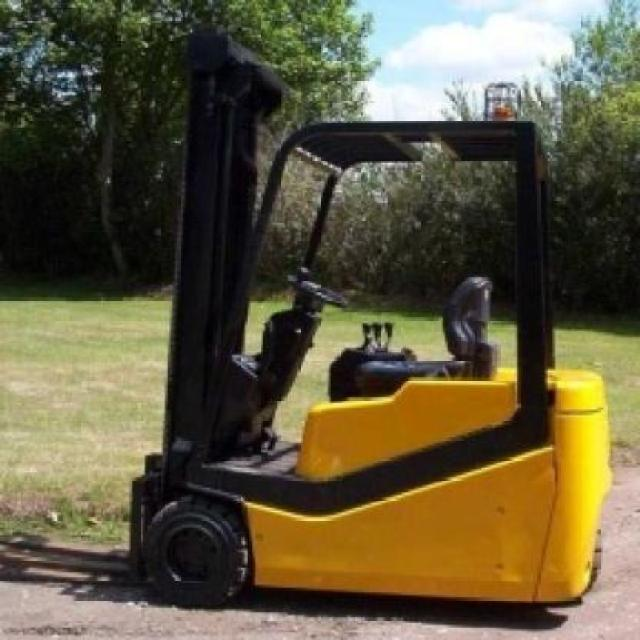forklift: (133, 27, 613, 618)
